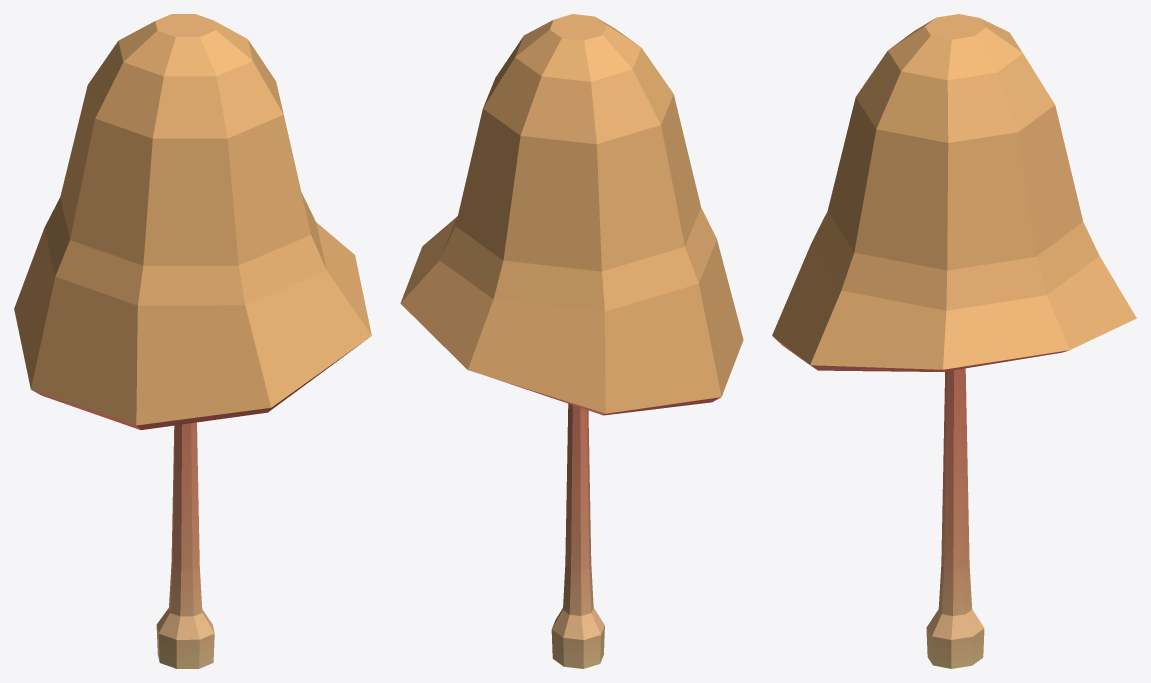
Rendered from Garden_GhostShroom02.fbx.
3 views of the same model, side by side, from view 1: azimuth 30°, elevation 25°; view 2: azimuth 150°, elevation 25°; view 3: azimuth 270°, elevation 25° (orthographic).
Visible parts, largest first — view 1: Cylinder.325; view 2: Cylinder.325; view 3: Cylinder.325.
Part boxes in pixels (x1=…): Cylinder.325: x1=14, y1=14, x2=371, y2=668; Cylinder.325: x1=400, y1=14, x2=743, y2=668; Cylinder.325: x1=772, y1=14, x2=1136, y2=668.
Bounding box in the file's own units: 59.86 × 116 × 60.75.
